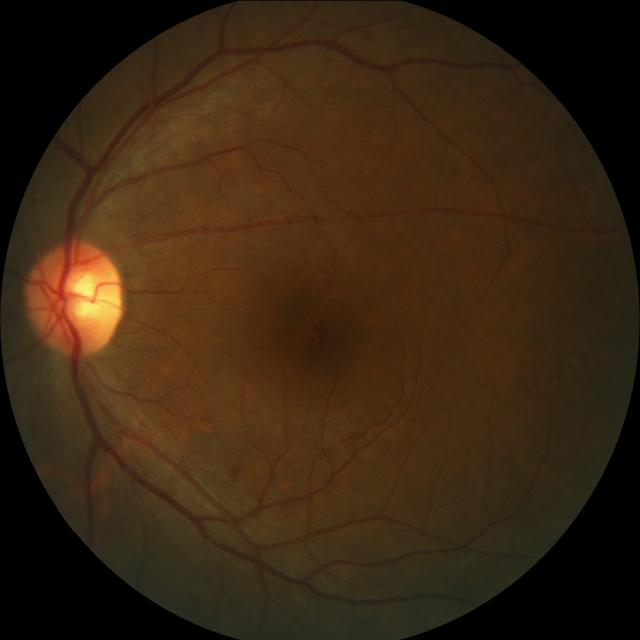OC: (54, 264, 104, 322)
OD: (28, 239, 126, 357)
